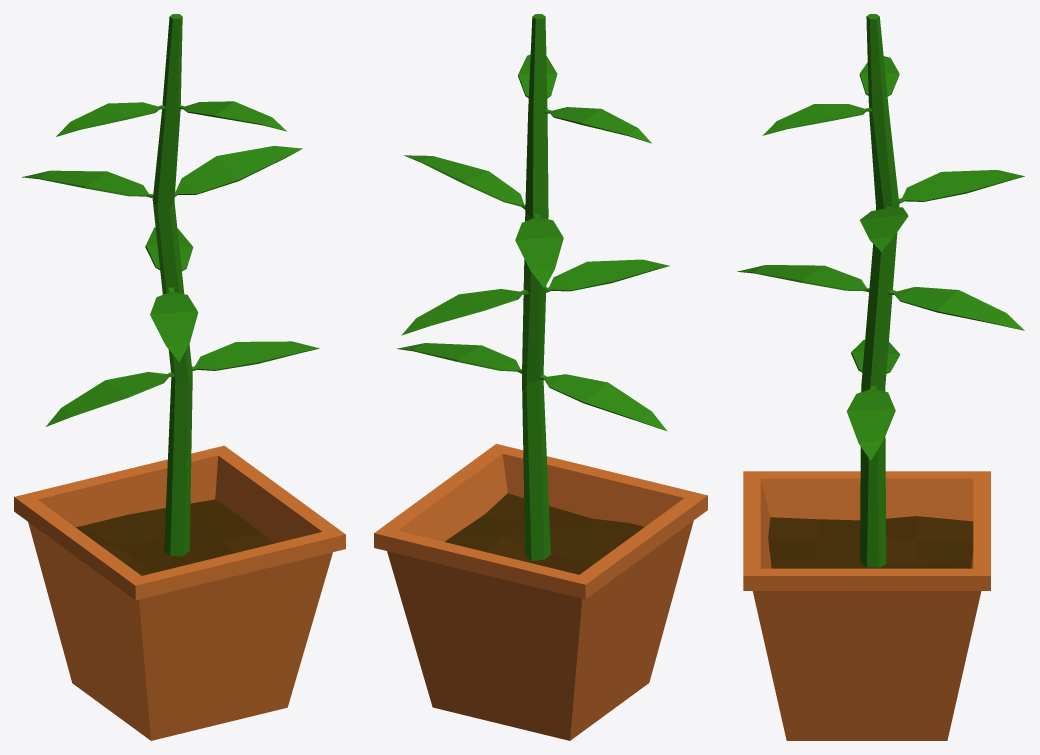
The model's file is plant.fbx.
3 renders of one model, left to right at view 1: azimuth 30°, elevation 25°; view 2: azimuth 150°, elevation 25°; view 3: azimuth 270°, elevation 25°, orthographic.
Parts seen in each view (by area): view 1: H_Plant; view 2: H_Plant; view 3: H_Plant.
Part boxes in pixels (x1=…): H_Plant: x1=14, y1=14, x2=345, y2=740; H_Plant: x1=374, y1=14, x2=707, y2=740; H_Plant: x1=737, y1=14, x2=1024, y2=740.
Size of the model in its own units: 385 by 347 by 915.
